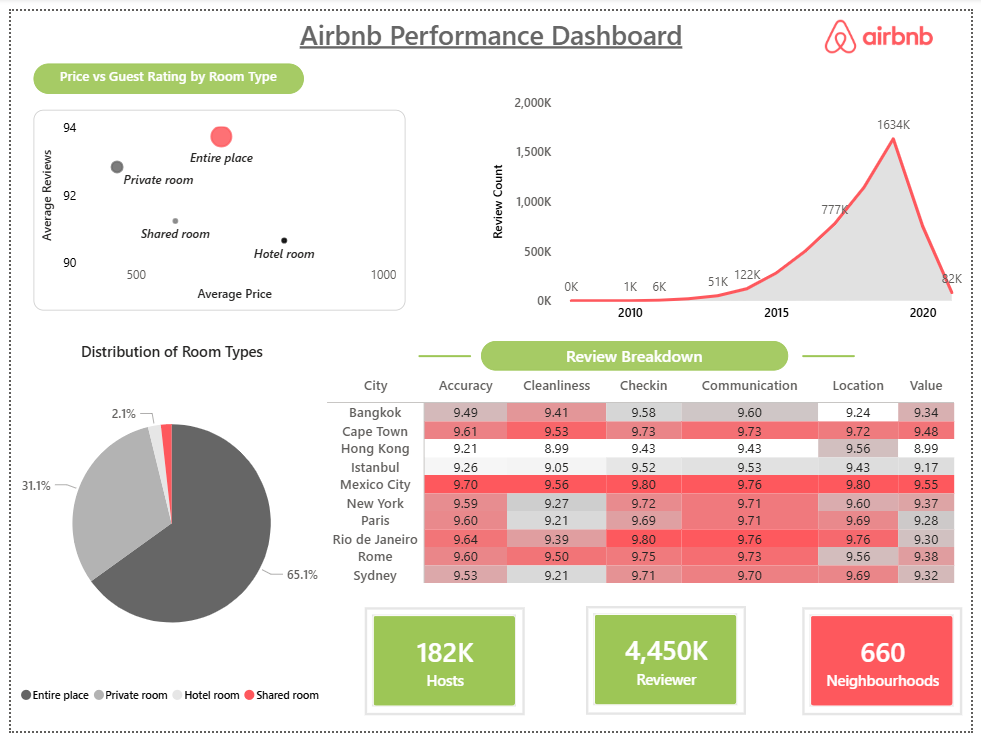

This screenshot's page, from the dashboard's own definition file:
{"tool":"powerbi","page":{"name":"Reviews","canvas":[960,720],"ordinal":2},"visuals":[{"type":"textbox","box":[257.5,0,445,67.5],"z":0},{"type":"image","box":[776.2,8.8,183.8,33.8],"z":1000},{"type":"textbox","box":[22.5,52.5,270,30],"z":2000},{"type":"shape","box":[407.2,294.7,52.6,100.3],"z":3000},{"type":"shape","box":[791.2,294.7,52.6,100.3],"z":4000},{"type":"textbox","box":[469.6,330.2,306.9,29.3],"z":5000},{"type":"scatterChart","fields":{"X":["Avg(Listings.price)"],"Y":["Avg(Listings.review_scores_rating)"],"Series":["Listings.room_type"],"Size":["Sum(Listings.accommodates)"]},"box":[22,99,371.7,200.5],"z":6000},{"type":"lineChart","fields":{"Category":["Reviews.date.Variation.Date Hierarchy.Year"],"Y":["CountNonNull(Reviews.reviewer_id)"]},"box":[477.5,77.5,482.5,242.5],"z":7000},{"type":"pivotTable","fields":{"Rows":["Listings.city"],"Values":["Listings.Accuracy","Listings.Cleanliness","Listings.Checkin","Listings.Communication","Listings.Location","Listings.Value"]},"box":[311.2,360,648.8,231.2],"z":8000},{"type":"pieChart","title":"Distribution of Room Types","fields":{"Category":["Listings.room_type"],"Y":["CountNonNull(Listings.Listing_ID)"]},"box":[0,330.2,321.6,371.7],"z":9000},{"type":"cardVisual","fields":{"Data":["Count(Listings.Host_id)"]},"box":[353.6,596.4,160,108.2],"z":10000},{"type":"cardVisual","fields":{"Data":["Count(Reviews.reviewer_id)"]},"box":[574.7,595.5,160.2,108.8],"z":12000},{"type":"cardVisual","fields":{"Data":["Count(Listings.Neighbourhood)"]},"box":[790.9,596.4,160,108.2],"z":14000}]}

Visuals, with their boxes in screenshot pixels (x1, y1, x2, y2), scaled from the page's 960x720 canvas onto the 981x739 screenshot:
textbox: <region>263, 0, 718, 69</region>
image: <region>793, 9, 980, 44</region>
textbox: <region>23, 54, 299, 85</region>
shape: <region>416, 302, 470, 405</region>
shape: <region>809, 302, 862, 405</region>
textbox: <region>480, 339, 793, 369</region>
scatterChart - Avg(Listings.price) x Avg(Listings.review_scores_rating): <region>22, 102, 402, 307</region>
lineChart - Reviews.date.Variation.Date Hierarchy.Year x CountNonNull(Reviews.reviewer_id): <region>488, 80, 980, 328</region>
pivotTable - Listings.city x Listings.Accuracy: <region>318, 369, 980, 607</region>
"Distribution of Room Types" pieChart: <region>0, 339, 329, 720</region>
cardVisual - Count(Listings.Host_id): <region>361, 612, 525, 723</region>
cardVisual - Count(Reviews.reviewer_id): <region>587, 611, 751, 723</region>
cardVisual - Count(Listings.Neighbourhood): <region>808, 612, 972, 723</region>
